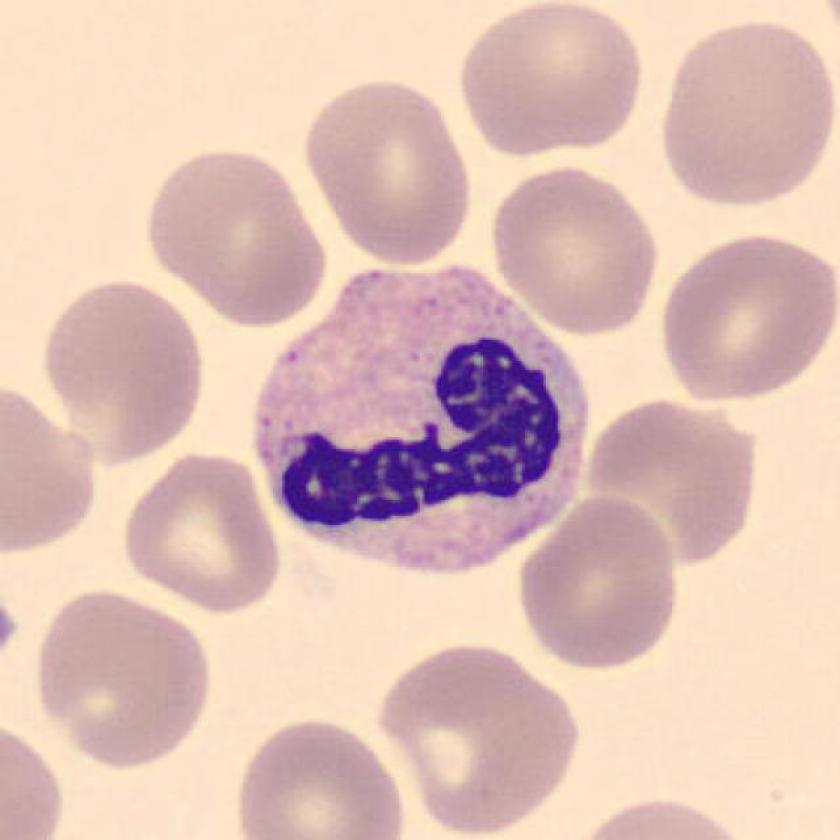neutrophil: (256, 266, 589, 572)
